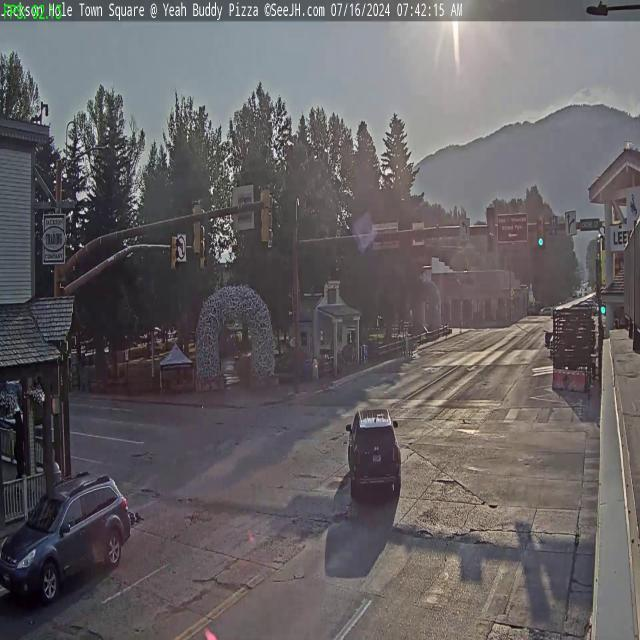sedan: (3, 471, 132, 604), (348, 410, 404, 500)
suv: (260, 188, 274, 242), (192, 200, 204, 258), (170, 235, 178, 272), (200, 235, 208, 272), (488, 205, 494, 249), (536, 217, 544, 245)
